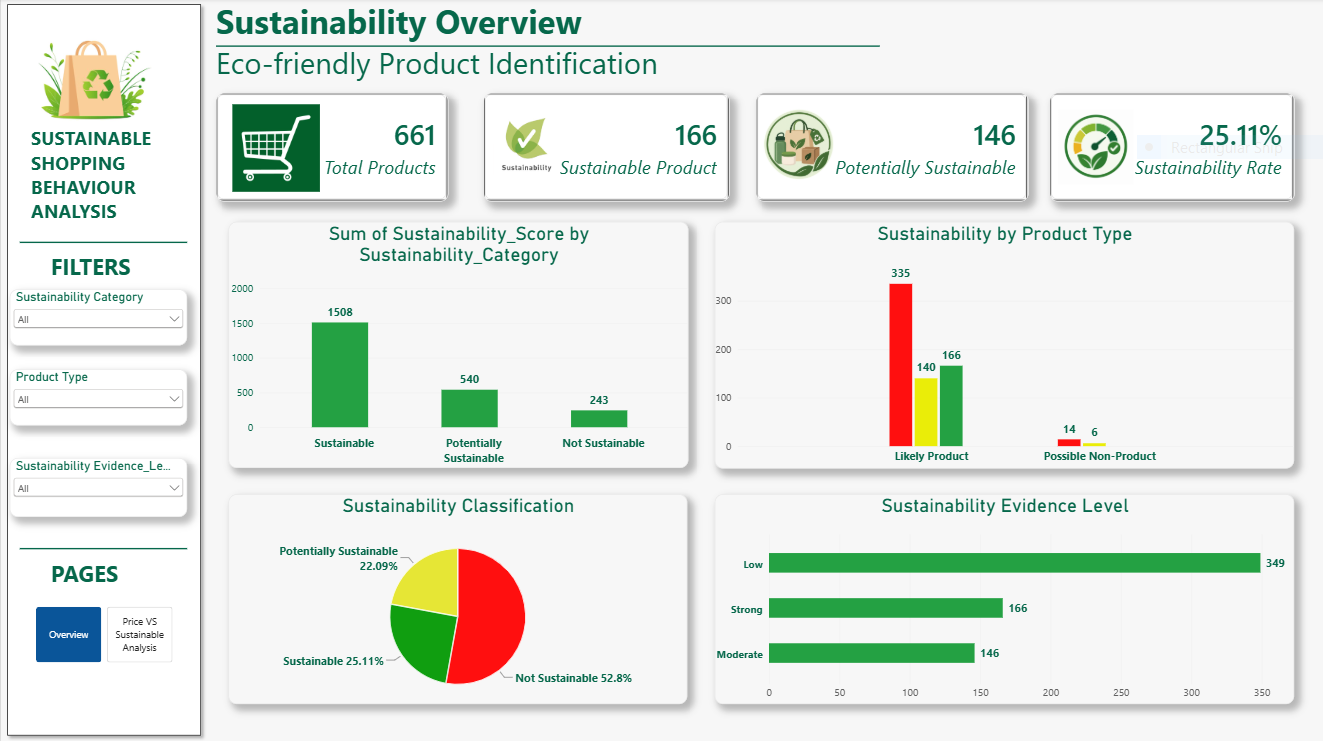

What the dashboard file says about the page in this screenshot:
{"tool":"powerbi","page":{"name":"Overview","canvas":[1920,1080],"ordinal":0},"visuals":[{"type":"shape","box":[0,0,299.6,1080.4],"z":0,"group":"g6"},{"type":"image","box":[27.2,18.2,207,197.9],"z":1000,"group":"g6"},{"type":"textbox","box":[312.3,0,1024.1,185.2],"z":2000,"group":"g5"},{"type":"shape","box":[312.3,21.8,964.2,96.2],"z":3000,"group":"g5"},{"type":"textbox","box":[43.6,185.2,239.7,158],"z":4000,"group":"g6"},{"type":"shape","box":[27.2,308.7,243.3,92.6],"z":5000,"group":"g6"},{"type":"cardVisual","fields":{"Data":["Sustainable_Shopping_Analysis_Final.Sustainable Products"]},"box":[312.3,138,337.7,158],"z":6000,"group":"g1"},{"type":"cardVisual","fields":{"Data":["Sustainable_Shopping_Analysis_Final.Sustainable Product"]},"box":[700.9,138,357.7,158],"z":7000,"group":"g2"},{"type":"cardVisual","fields":{"Data":["Sustainable_Shopping_Analysis_Final.Potentially Sustainable Products"]},"box":[1096.7,138,395.8,158],"z":8000,"group":"g3"},{"type":"cardVisual","fields":{"Data":["Sustainable_Shopping_Analysis_Final.Sustainability Rate"]},"box":[1523.4,138,355.9,158],"z":9000,"group":"g4"},{"type":"pieChart","title":"Sustainability Classification","fields":{"Category":["Sustainable_Shopping_Analysis_Final.Sustainability_Category"],"Y":["CountNonNull(Sustainable_Shopping_Analysis_Final.Title)"]},"box":[330.5,720.9,666.4,305],"z":10000},{"type":"clusteredBarChart","title":"Sustainability Evidence Level","fields":{"Y":["CountNonNull(Sustainable_Shopping_Analysis_Final.Title)"],"Category":["Sustainable_Shopping_Analysis_Final.Sustainability_Evidence_Level"]},"box":[1037.4,720.4,841.9,304.6],"z":11000},{"type":"clusteredColumnChart","fields":{"Category":["Sustainable_Shopping_Analysis_Final.Sustainability_Category"],"Y":["Sum(Sustainable_Shopping_Analysis_Final.Sustainability_Score)"]},"box":[330.5,325,668.2,357.7],"z":12000},{"type":"clusteredColumnChart","title":"Sustainability by Product Type","fields":{"Category":["Sustainable_Shopping_Analysis_Final.Product_Type"],"Y":["CountNonNull(Sustainable_Shopping_Analysis_Final.Title)"],"Series":["Sustainable_Shopping_Analysis_Final.Sustainability_Category"]},"box":[1037.4,325.2,841.9,358.1],"z":13000},{"type":"slicer","fields":{"Values":["Sustainable_Shopping_Analysis_Final.Sustainability_Category"]},"box":[12.7,423.1,257.8,81.7],"z":14000,"group":"g6"},{"type":"slicer","fields":{"Values":["Sustainable_Shopping_Analysis_Final.Product_Type"]},"box":[12.7,539.3,257.8,81.7],"z":15000,"group":"g6"},{"type":"slicer","fields":{"Values":["Sustainable_Shopping_Analysis_Final.Sustainability_Evidence_Level"]},"box":[12.7,668.2,257.8,85.3],"z":16000,"group":"g6"},{"type":"textbox","box":[72.6,368.6,177.9,54.5],"z":17000,"group":"g6"},{"type":"shape","box":[27.2,753.5,243.3,92.6],"z":18000,"group":"g6"},{"type":"textbox","box":[72.6,813.5,326.8,112.6],"z":19000,"group":"g6"},{"type":"pageNavigator","box":[50.8,884.3,199.7,81.7],"z":20000,"group":"g6"},{"type":"image","box":[330.5,154.3,138,127.1],"z":21000,"group":"g1"},{"type":"image","box":[1536.1,143.4,108.9,145.3],"z":22000,"group":"g4"},{"type":"image","box":[715.4,138,96.2,150.7],"z":23000,"group":"g2"},{"type":"image","box":[1096.7,138,125.3,150.7],"z":24000,"group":"g3"},{"type":"group","id":"g1","title":"Group 1","box":[312.3,138,337.7,158],"z":24001},{"type":"group","id":"g2","title":"Group 2","box":[700.9,138,357.7,158],"z":24002},{"type":"group","id":"g3","title":"Group 3","box":[1096.7,138,395.8,158],"z":24003},{"type":"group","id":"g4","title":"Group 4","box":[1523.4,138,355.9,158],"z":24004,"group":"g5"},{"type":"group","id":"g5","title":"Group 5","box":[312.3,0,1567,296],"z":24005},{"type":"group","id":"g6","title":"Group 6","box":[0,0,399.5,1080.4],"z":24006}]}

Visuals, with their boxes in screenshot pixels (x1, y1, x2, y2), scaled from the page's 1920x1080 canvas onto the 1323x741 screenshot:
shape: locate(0, 0, 206, 740)
image: locate(19, 12, 161, 148)
textbox: locate(215, 0, 921, 127)
shape: locate(215, 15, 880, 81)
textbox: locate(30, 127, 195, 235)
shape: locate(19, 212, 186, 275)
cardVisual - Sustainable_Shopping_Analysis_Final.Sustainable Products: locate(215, 95, 448, 203)
cardVisual - Sustainable_Shopping_Analysis_Final.Sustainable Product: locate(483, 95, 729, 203)
cardVisual - Sustainable_Shopping_Analysis_Final.Potentially Sustainable Products: locate(756, 95, 1028, 203)
cardVisual - Sustainable_Shopping_Analysis_Final.Sustainability Rate: locate(1050, 95, 1295, 203)
"Sustainability Classification" pieChart: locate(228, 495, 687, 704)
"Sustainability Evidence Level" clusteredBarChart: locate(715, 494, 1295, 703)
clusteredColumnChart - Sustainable_Shopping_Analysis_Final.Sustainability_Category x Sum(Sustainable_Shopping_Analysis_Final.Sustainability_Score): locate(228, 223, 688, 468)
"Sustainability by Product Type" clusteredColumnChart: locate(715, 223, 1295, 469)
slicer - Sustainable_Shopping_Analysis_Final.Sustainability_Category: locate(9, 290, 186, 346)
slicer - Sustainable_Shopping_Analysis_Final.Product_Type: locate(9, 370, 186, 426)
slicer - Sustainable_Shopping_Analysis_Final.Sustainability_Evidence_Level: locate(9, 458, 186, 517)
textbox: locate(50, 253, 173, 290)
shape: locate(19, 517, 186, 581)
textbox: locate(50, 558, 275, 635)
pageNavigator: locate(35, 607, 173, 663)
image: locate(228, 106, 323, 193)
image: locate(1058, 98, 1134, 198)
image: locate(493, 95, 559, 198)
image: locate(756, 95, 842, 198)
"Group 1" group: locate(215, 95, 448, 203)
"Group 2" group: locate(483, 95, 729, 203)
"Group 3" group: locate(756, 95, 1028, 203)
"Group 4" group: locate(1050, 95, 1295, 203)
"Group 5" group: locate(215, 0, 1295, 203)
"Group 6" group: locate(0, 0, 275, 740)
